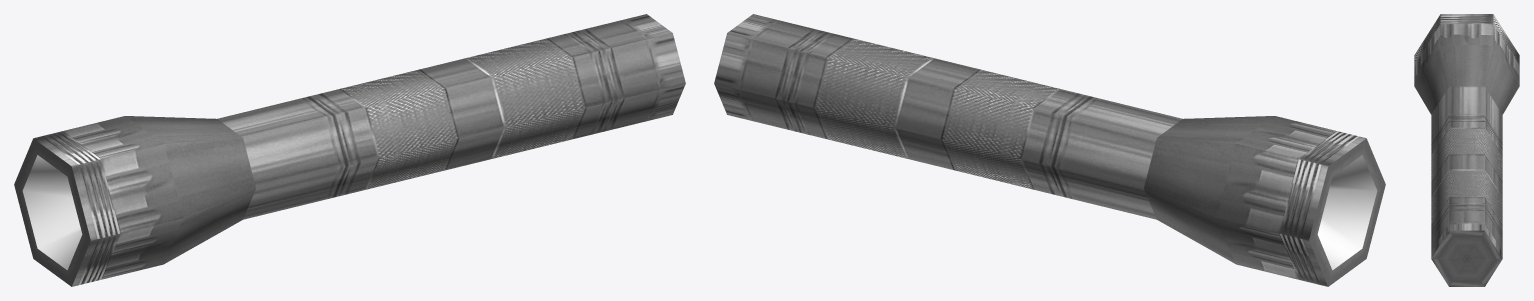
File: flashlight.fbx
3 views of the same model, side by side, from view 1: azimuth 30°, elevation 25°; view 2: azimuth 150°, elevation 25°; view 3: azimuth 270°, elevation 25° (orthographic). The views are drawn at different scales.
Parts seen in each view (by area): view 1: flashlight; view 2: flashlight; view 3: flashlight.
Part boxes in pixels (box(x1,y1,x2,y2)): flashlight: box(14, 14, 685, 286); flashlight: box(714, 14, 1385, 286); flashlight: box(1414, 14, 1519, 286).
Size of the model in its own units: 25.33 by 4.81 by 5.55.
2 materials, 1 textured.
